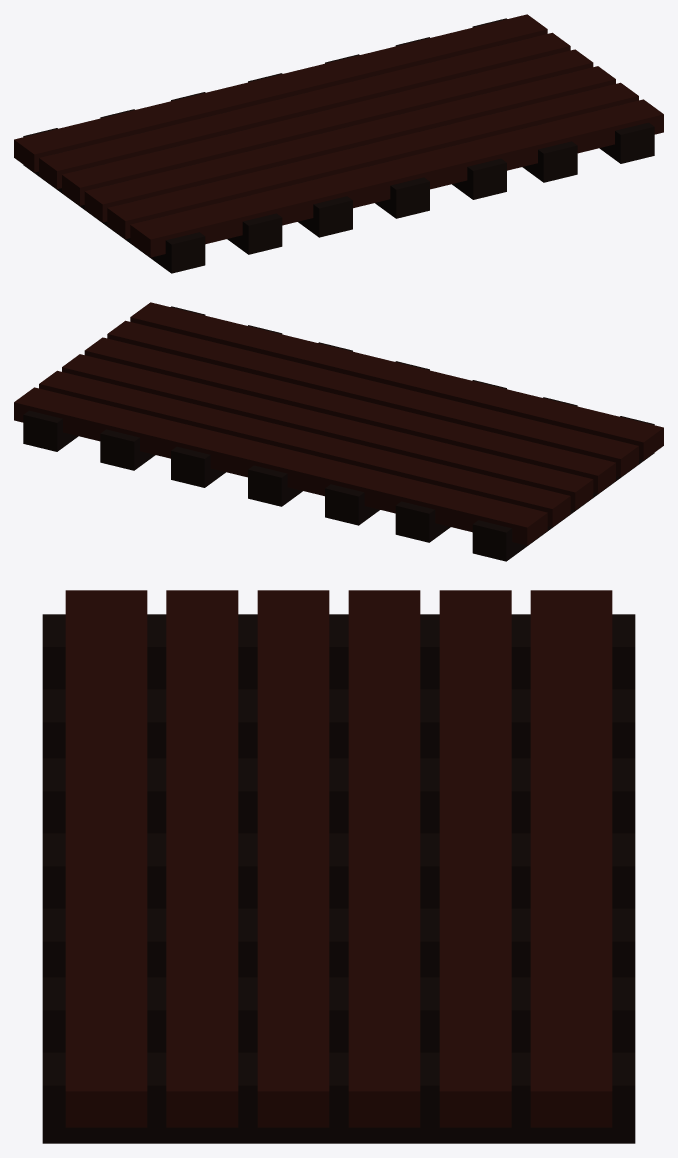
Rendered from plataforma_larga.fbx.
The picture shows the model from 3 angles, top to bottom: view 1: azimuth 30°, elevation 25°; view 2: azimuth 150°, elevation 25°; view 3: azimuth 270°, elevation 25°; orthographic projection. The views are drawn at different scales.
Visible parts, largest first — view 1: plataforma_larga; view 2: plataforma_larga; view 3: plataforma_larga.
Part boxes in pixels (box(x1,y1,x2,y2)): plataforma_larga: box(14, 14, 663, 273); plataforma_larga: box(14, 302, 663, 561); plataforma_larga: box(42, 590, 635, 1143).
Bounding box in the file's own units: 800 × 50 × 400.
